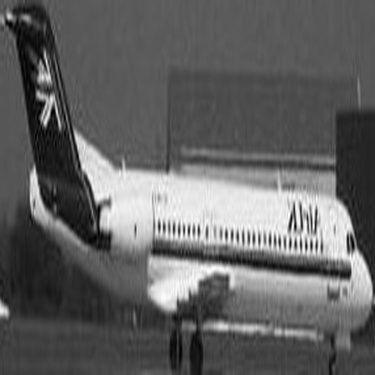airplane: (10, 5, 364, 362)
